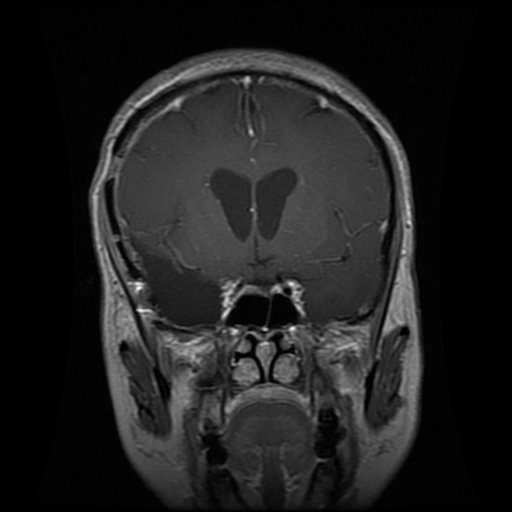glioma: (130, 234, 222, 324)
